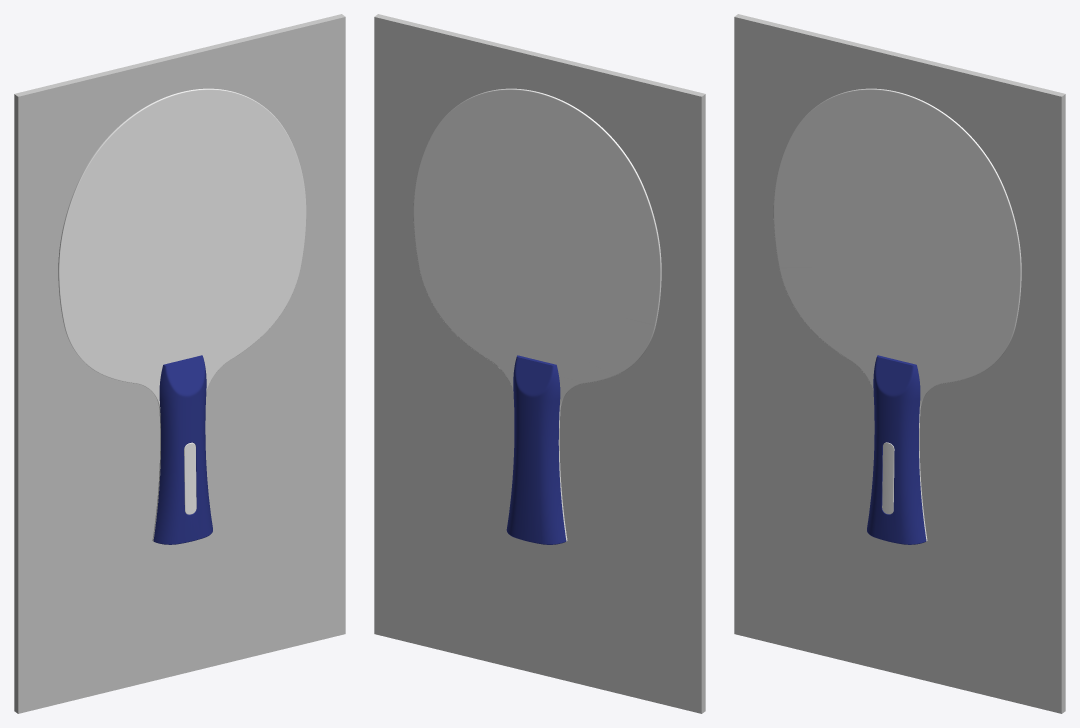
Rendered from paddle.glb.
3 renders of one model, left to right at view 1: azimuth 30°, elevation 25°; view 2: azimuth 150°, elevation 25°; view 3: azimuth 330°, elevation 25°, orthographic.
Parts seen in each view (by area): view 1: Cube.001, Sheet_294, Sheet_283.002; view 2: Cube.001, Sheet_294, Sheet_283.002; view 3: Cube.001, Sheet_294, Sheet_283.002.
Boxes of the visible parts, box(x1,y1,x2,y2) form: Cube.001: box(14, 14, 345, 713); Sheet_294: box(58, 88, 306, 541); Sheet_283.002: box(153, 355, 212, 544); Cube.001: box(374, 14, 705, 713); Sheet_294: box(413, 88, 661, 541); Sheet_283.002: box(506, 355, 566, 544); Cube.001: box(734, 14, 1065, 713); Sheet_294: box(773, 88, 1021, 541); Sheet_283.002: box(867, 355, 926, 544).
Bounding box in the file's own units: 2 × 3.6 × 0.2598.
